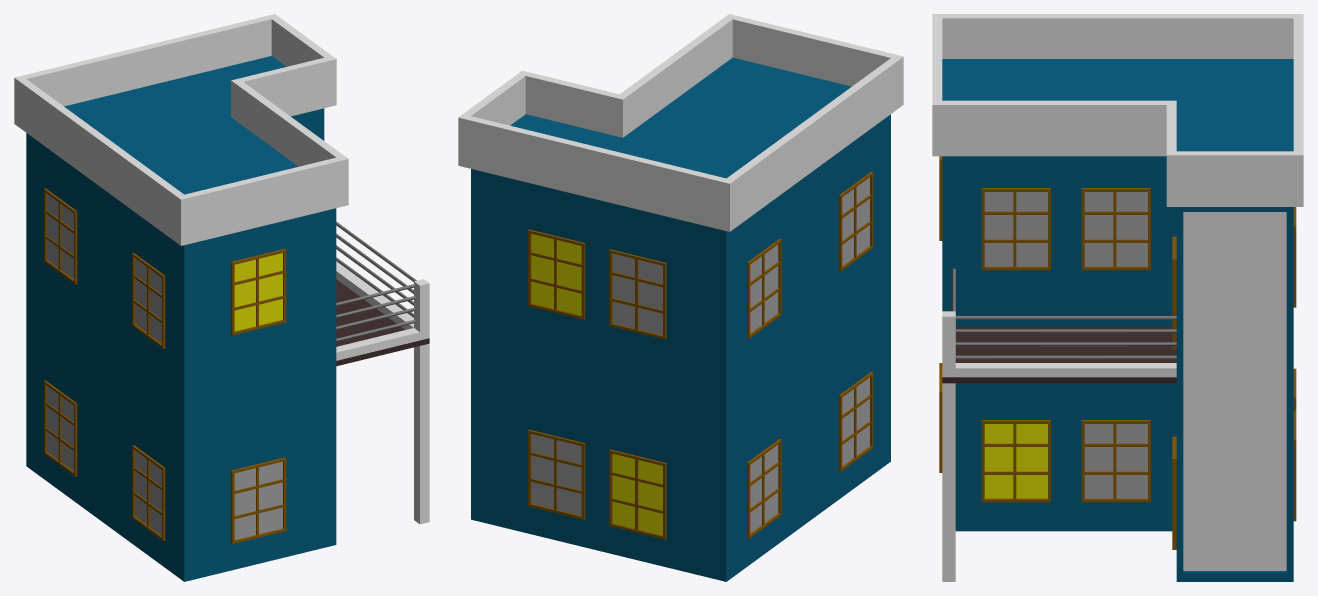
The picture shows the model from 3 angles, left to right: view 1: azimuth 30°, elevation 25°; view 2: azimuth 150°, elevation 25°; view 3: azimuth 270°, elevation 25°; orthographic projection. The views are drawn at different scales.
Visible parts, largest first — view 1: Building_2; view 2: Building_2; view 3: Building_2.
Part boxes in pixels (left/top/right/bottom): Building_2: left=14, top=14, right=429, bottom=581; Building_2: left=458, top=14, right=903, bottom=581; Building_2: left=932, top=14, right=1303, bottom=581.
Size of the model in its own units: 515 by 730 by 570.
